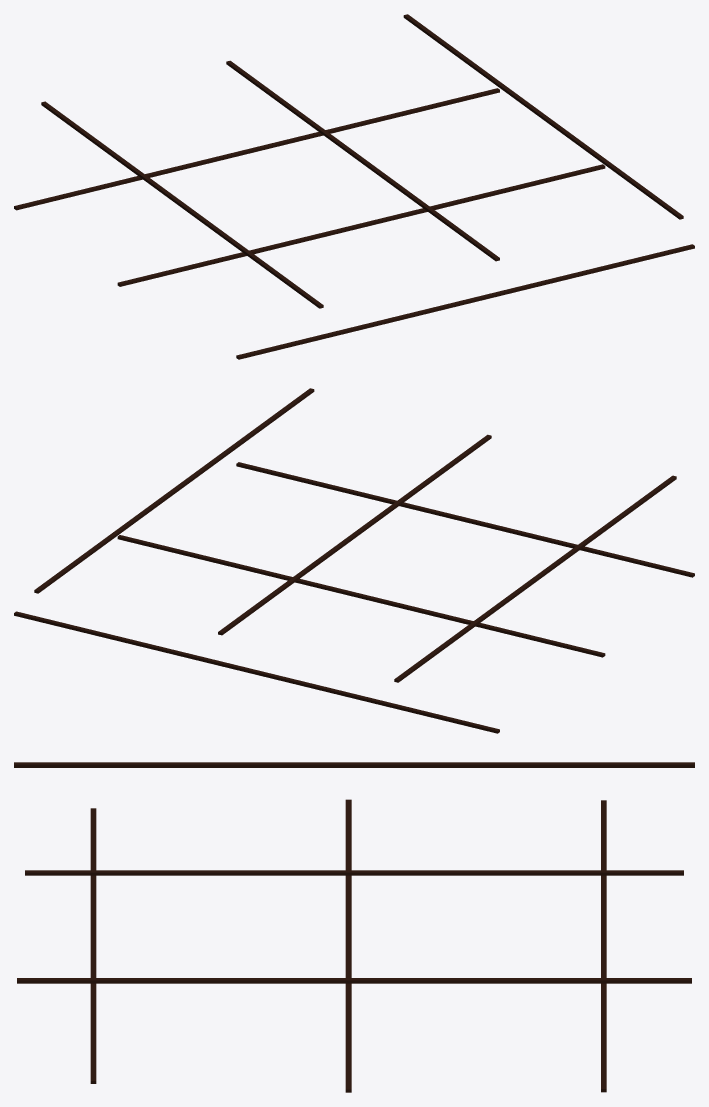
The model's file is fire_ash_wood_embers.glb.
3 views of the same model, one above another, from view 1: azimuth 30°, elevation 25°; view 2: azimuth 150°, elevation 25°; view 3: azimuth 270°, elevation 25° (orthographic). The views are drawn at different scales.
Visible parts, largest first — view 1: fire_ash_wood_embers; view 2: fire_ash_wood_embers; view 3: fire_ash_wood_embers.
Boxes of the visible parts, x1=… form: fire_ash_wood_embers: x1=14, y1=14, x2=694, y2=359; fire_ash_wood_embers: x1=14, y1=388, x2=694, y2=733; fire_ash_wood_embers: x1=14, y1=762, x2=694, y2=1092.
Size of the model in its own units: 0.591 by 0.075 by 0.587.
